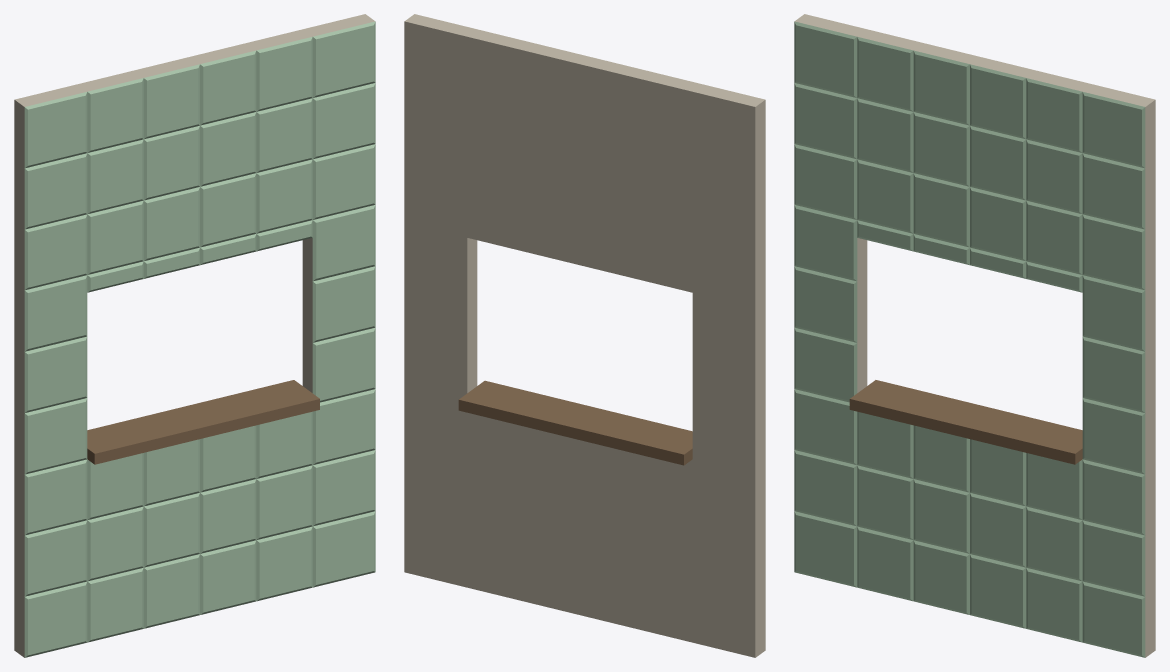
File: Mesh_WallCeramic_C2.fbx
3 views of the same model, side by side, from view 1: azimuth 30°, elevation 25°; view 2: azimuth 150°, elevation 25°; view 3: azimuth 330°, elevation 25° (orthographic).
Parts seen in each view (by area): view 1: Mesh_WallCeramic_C2; view 2: Mesh_WallCeramic_C2; view 3: Mesh_WallCeramic_C2.
Part boxes in pixels (x1,y1,x2,y2): Mesh_WallCeramic_C2: (14,14,375,657); Mesh_WallCeramic_C2: (404,14,765,657); Mesh_WallCeramic_C2: (794,14,1155,657).
Bounding box in the file's own units: 2 × 3 × 0.2574.
